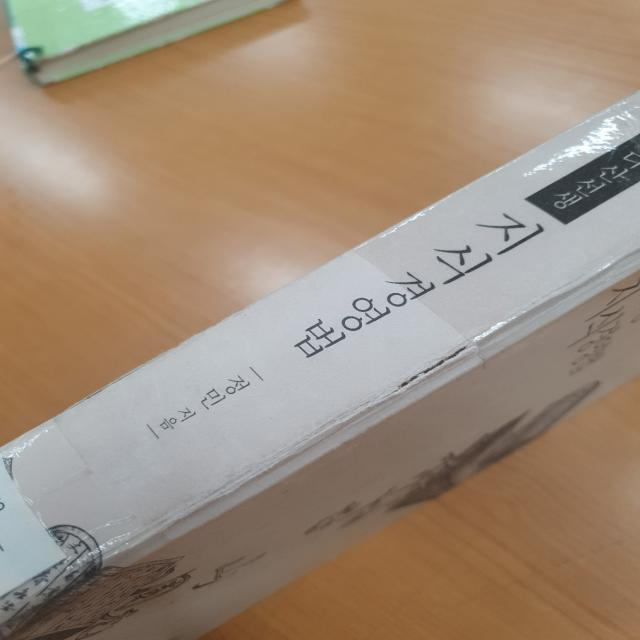Ripped: (53, 353, 160, 421), (374, 336, 475, 407)
